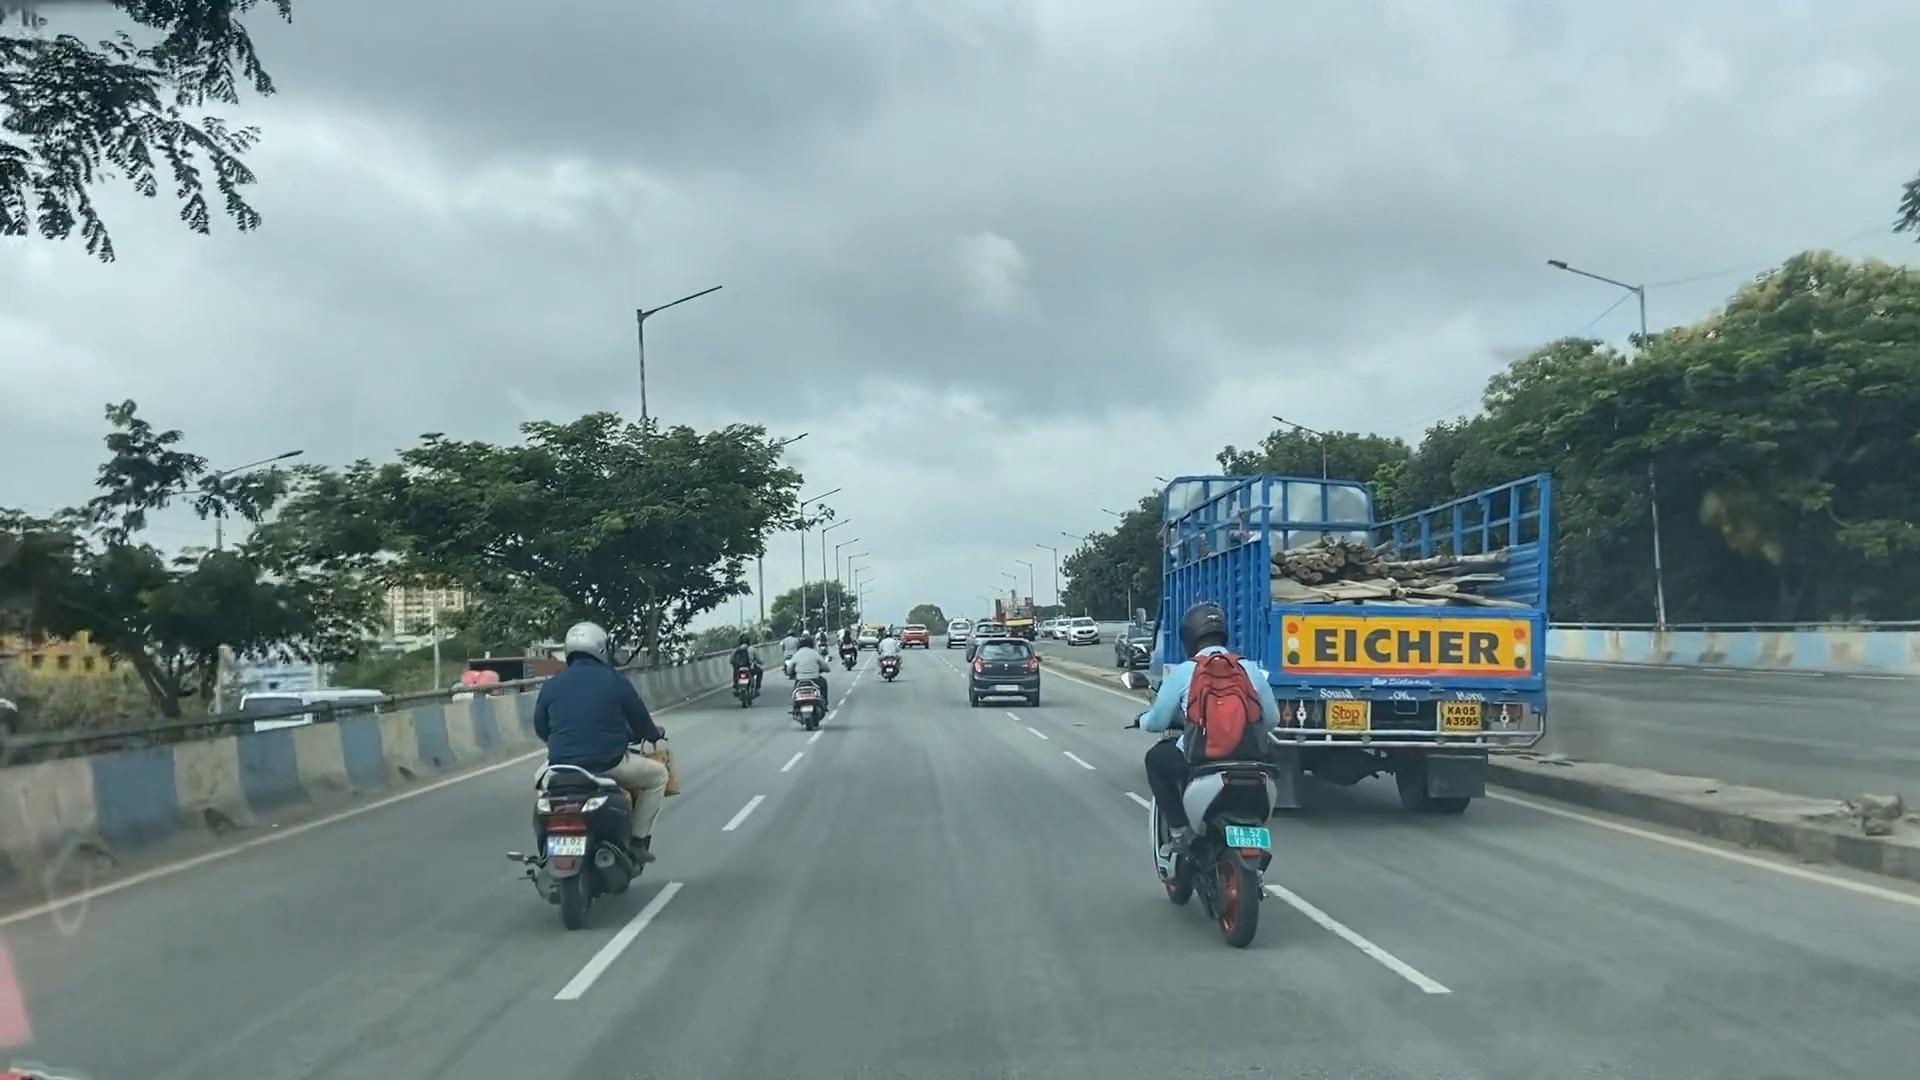LMV: (1139, 630, 1279, 951), (533, 613, 646, 899), (972, 650, 1043, 707), (787, 637, 836, 719)
